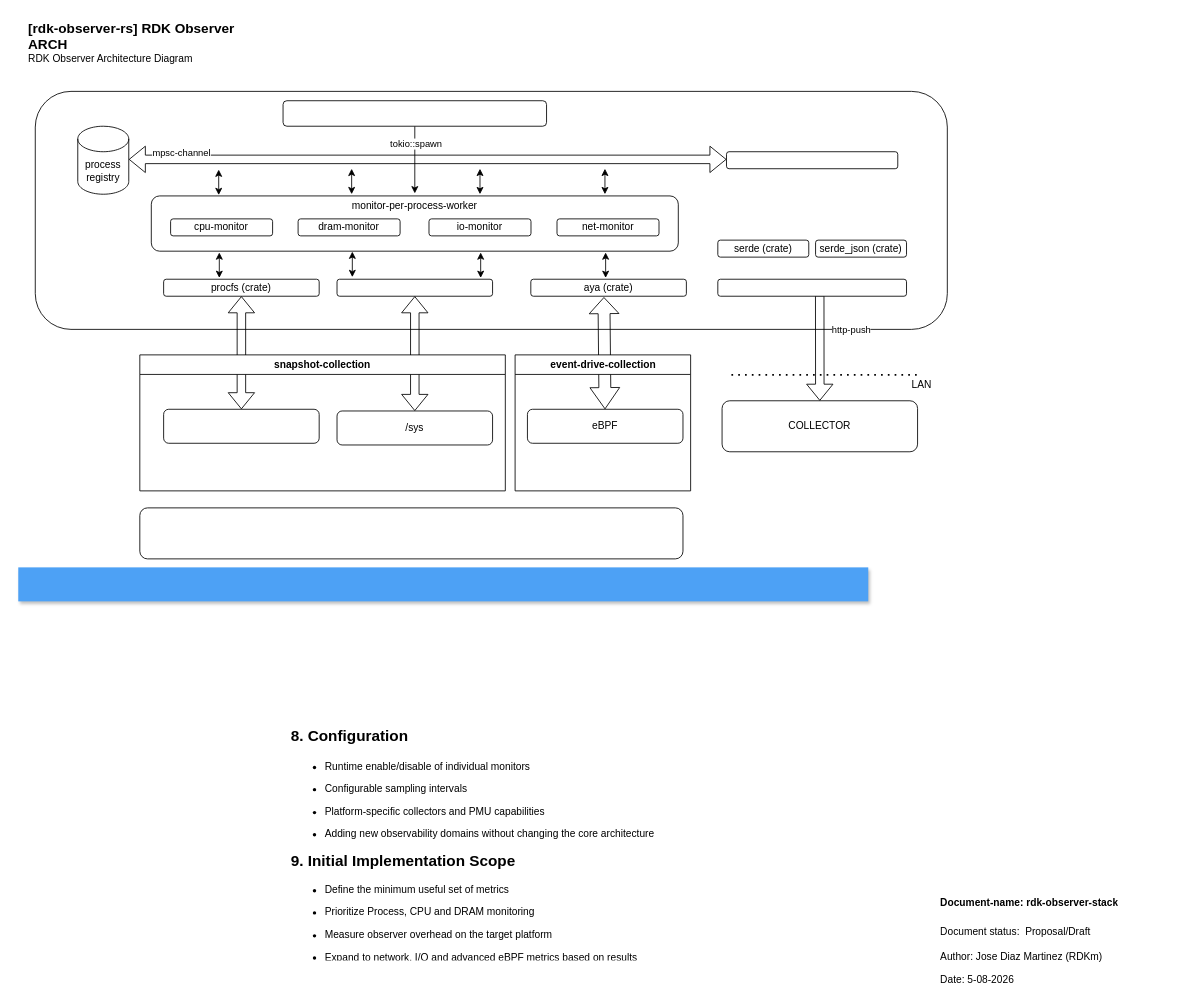
The diagram is 1191 pixels wide and 1000 high, and some of its shapes have lost their labels. Here are the shapes that lost their labels. From the top down, the centre of each, then its label:
At point (414, 113): "main".
At point (812, 160): "metric-collector-worker".
At point (414, 287): "sysfs (crate)".
At point (812, 287): "reqwest (crate)".
At point (241, 425): "/proc".
At point (411, 533): "KERNEL".
At point (443, 585): "Architecture: rdk-observer-rs".
